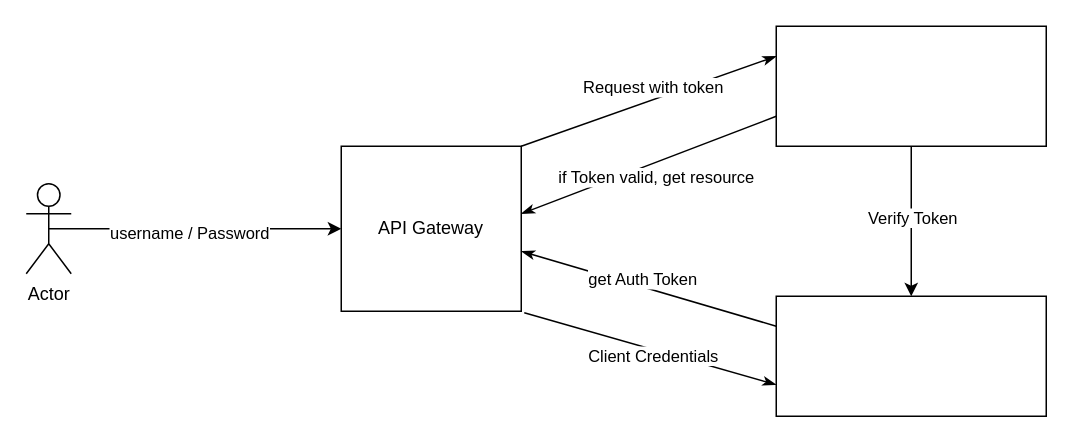
Some shapes in this 1073 by 443 pixel diagram are drawn without their labels. The box of each missing label's shape, as (x1, y1, x2, y2) in pixels:
AUTHORIZATION Server: (775, 295, 1046, 416)
RESOURCE Server: (775, 25, 1046, 146)
